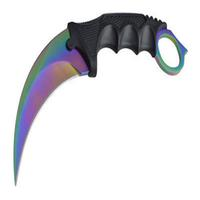knife: (8, 13, 182, 189)
